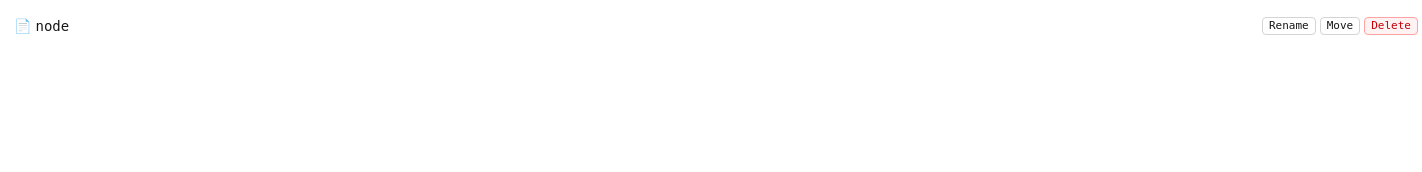
Test: UnifiedTreeNode: rename/delete affordance gating › opens an inline input prefilled with the current name
Click the button with aria-label "rename a.csv".
click(1289, 26)  # box [1262,17,1316,35]
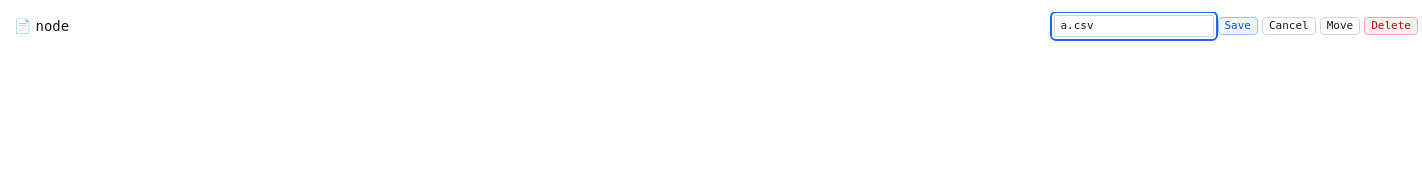
Check: the field named "new name for a.csv" holds "a.csv", box [1054,15,1214,37]
